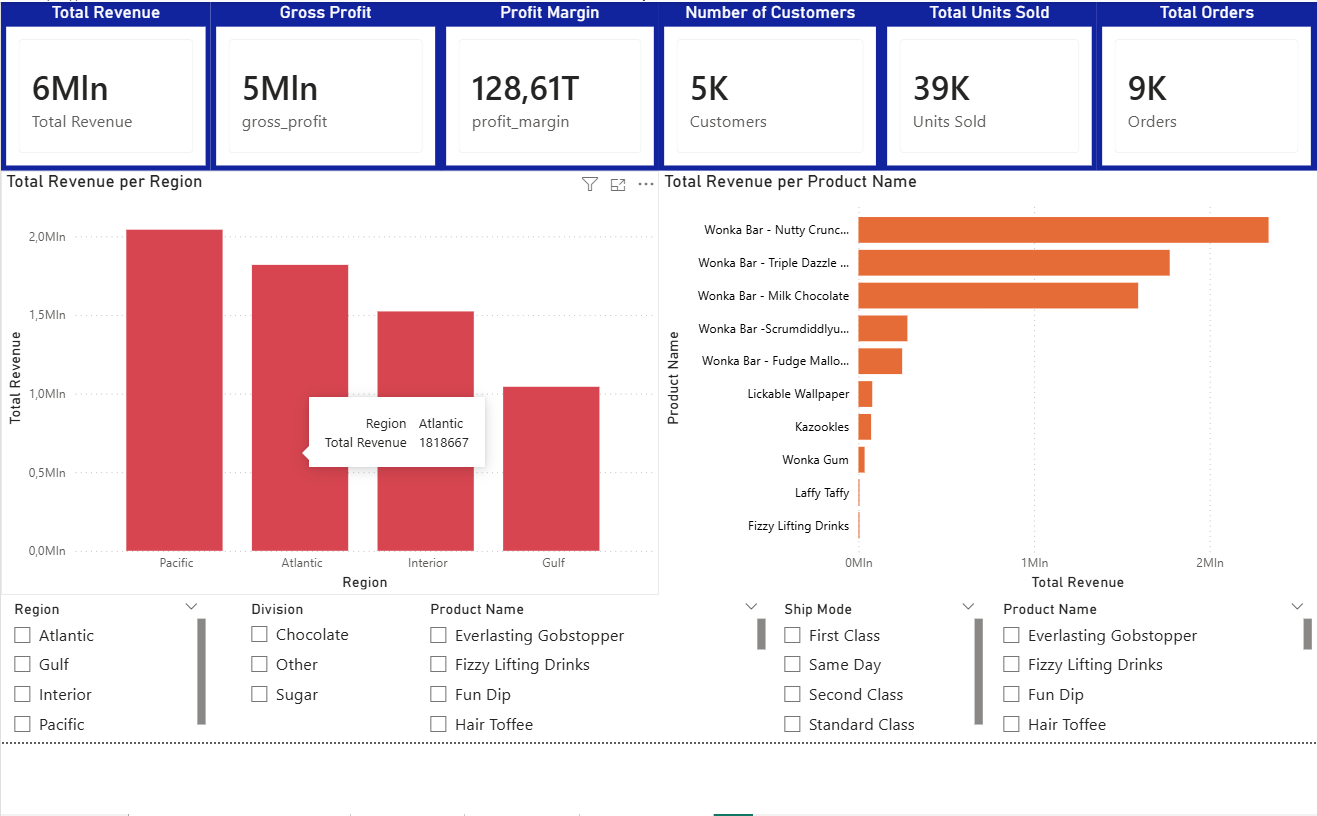

The dashboard page shown, as its layout file describes it:
{"tool":"powerbi","page":{"name":"Candy Sales  Executive Dashboard","canvas":[1280,720],"ordinal":0},"visuals":[{"type":"cardVisual","title":"Total Revenue","fields":{"Data":["candy_sales_featured.Total Revenue"]},"box":[0,0,204.3,164.4],"z":0},{"type":"cardVisual","title":"Total Units Sold","fields":{"Data":["candy_sales_featured.Units Sold"]},"box":[856.9,0,209.1,164.4],"z":1000},{"type":"cardVisual","title":"Profit Margin","fields":{"Data":["candy_sales_featured.profit_margin"]},"box":[428,0,212,164.4],"z":2000},{"type":"cardVisual","title":"Total Orders","fields":{"Data":["candy_sales_featured.Orders"]},"box":[1066,0,214,164.4],"z":3000},{"type":"cardVisual","title":"Gross Profit","fields":{"Data":["candy_sales_featured.gross_profit"]},"box":[204.3,0,223.7,164.4],"z":4000},{"type":"cardVisual","title":"Number of Customers","fields":{"Data":["candy_sales_featured.Customers"]},"box":[640,0,216.9,164.4],"z":5000},{"type":"columnChart","fields":{"Category":["candy_sales_featured.Region"],"Y":["candy_sales_featured.Total Revenue"]},"box":[0,164.4,640,412.4],"z":6000},{"type":"clusteredBarChart","fields":{"Category":["candy_sales_featured.Product Name"],"Y":["candy_sales_featured.Total Revenue"]},"box":[640,164.4,640,412.4],"z":7000},{"type":"slicer","fields":{"Values":["candy_sales_featured.Region"]},"box":[0,576.8,204.3,143],"z":8000},{"type":"slicer","fields":{"Values":["candy_sales_featured.Division"]},"box":[230.5,576.8,174.1,143],"z":9000},{"type":"slicer","fields":{"Values":["candy_sales_featured.Ship Mode"]},"box":[748.9,576.8,211.1,143],"z":10000},{"type":"slicer","fields":{"Values":["candy_sales_featured.Product Name"]},"box":[961.9,576.8,318.1,143],"z":11000},{"type":"slicer","fields":{"Values":["Candy_Products.Product Name"]},"box":[404.6,576.8,344.3,143],"z":12000}]}

Visuals, with their boxes on the page's 1280x720 design canvas (x1, y1, x2, y2). These are canvas units, not pixel positions in the 1317x816 screenshot, which may show the page scaled, cropped or inside an application window:
"Total Revenue" cardVisual: 0,0,204,164
"Total Units Sold" cardVisual: 857,0,1066,164
"Profit Margin" cardVisual: 428,0,640,164
"Total Orders" cardVisual: 1066,0,1280,164
"Gross Profit" cardVisual: 204,0,428,164
"Number of Customers" cardVisual: 640,0,857,164
columnChart - candy_sales_featured.Region x candy_sales_featured.Total Revenue: 0,164,640,577
clusteredBarChart - candy_sales_featured.Product Name x candy_sales_featured.Total Revenue: 640,164,1280,577
slicer - candy_sales_featured.Region: 0,577,204,720
slicer - candy_sales_featured.Division: 230,577,405,720
slicer - candy_sales_featured.Ship Mode: 749,577,960,720
slicer - candy_sales_featured.Product Name: 962,577,1280,720
slicer - Candy_Products.Product Name: 405,577,749,720
